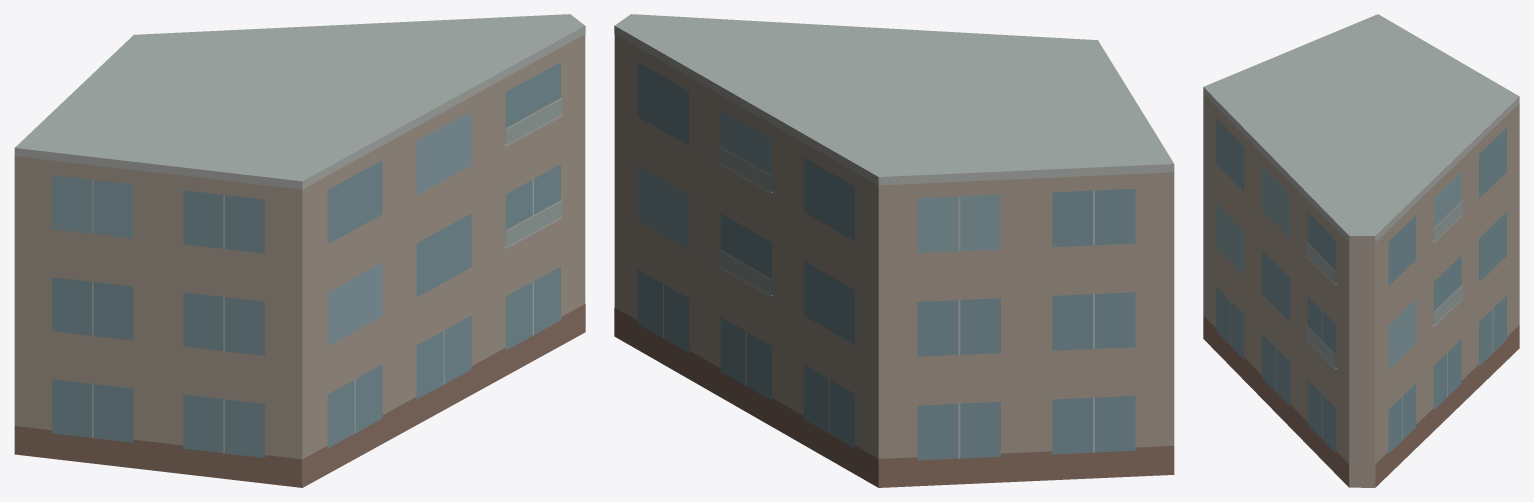
File: survey-upis-32808708.glb
3 renders of one model, left to right at view 1: azimuth 30°, elevation 25°; view 2: azimuth 150°, elevation 25°; view 3: azimuth 270°, elevation 25°, orthographic. The views are drawn at different scales.
Parts seen in each view (by area): view 1: survey-upis-32808708.tmp; view 2: survey-upis-32808708.tmp; view 3: survey-upis-32808708.tmp.
Part boxes in pixels (x1=…): survey-upis-32808708.tmp: x1=14, y1=14, x2=585, y2=487; survey-upis-32808708.tmp: x1=614, y1=14, x2=1174, y2=487; survey-upis-32808708.tmp: x1=1203, y1=14, x2=1519, y2=487.
Bounding box in the file's own units: 17.31 × 9.15 × 10.42.
